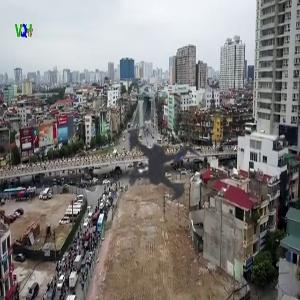drone: (43, 40, 283, 280)
